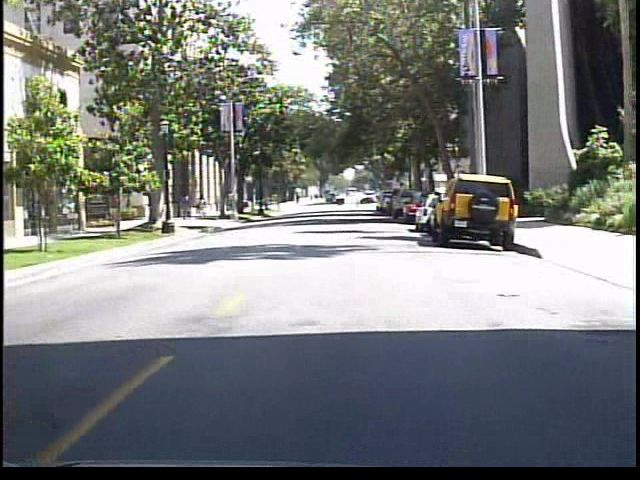person: (192, 191, 212, 223), (174, 187, 191, 221)
